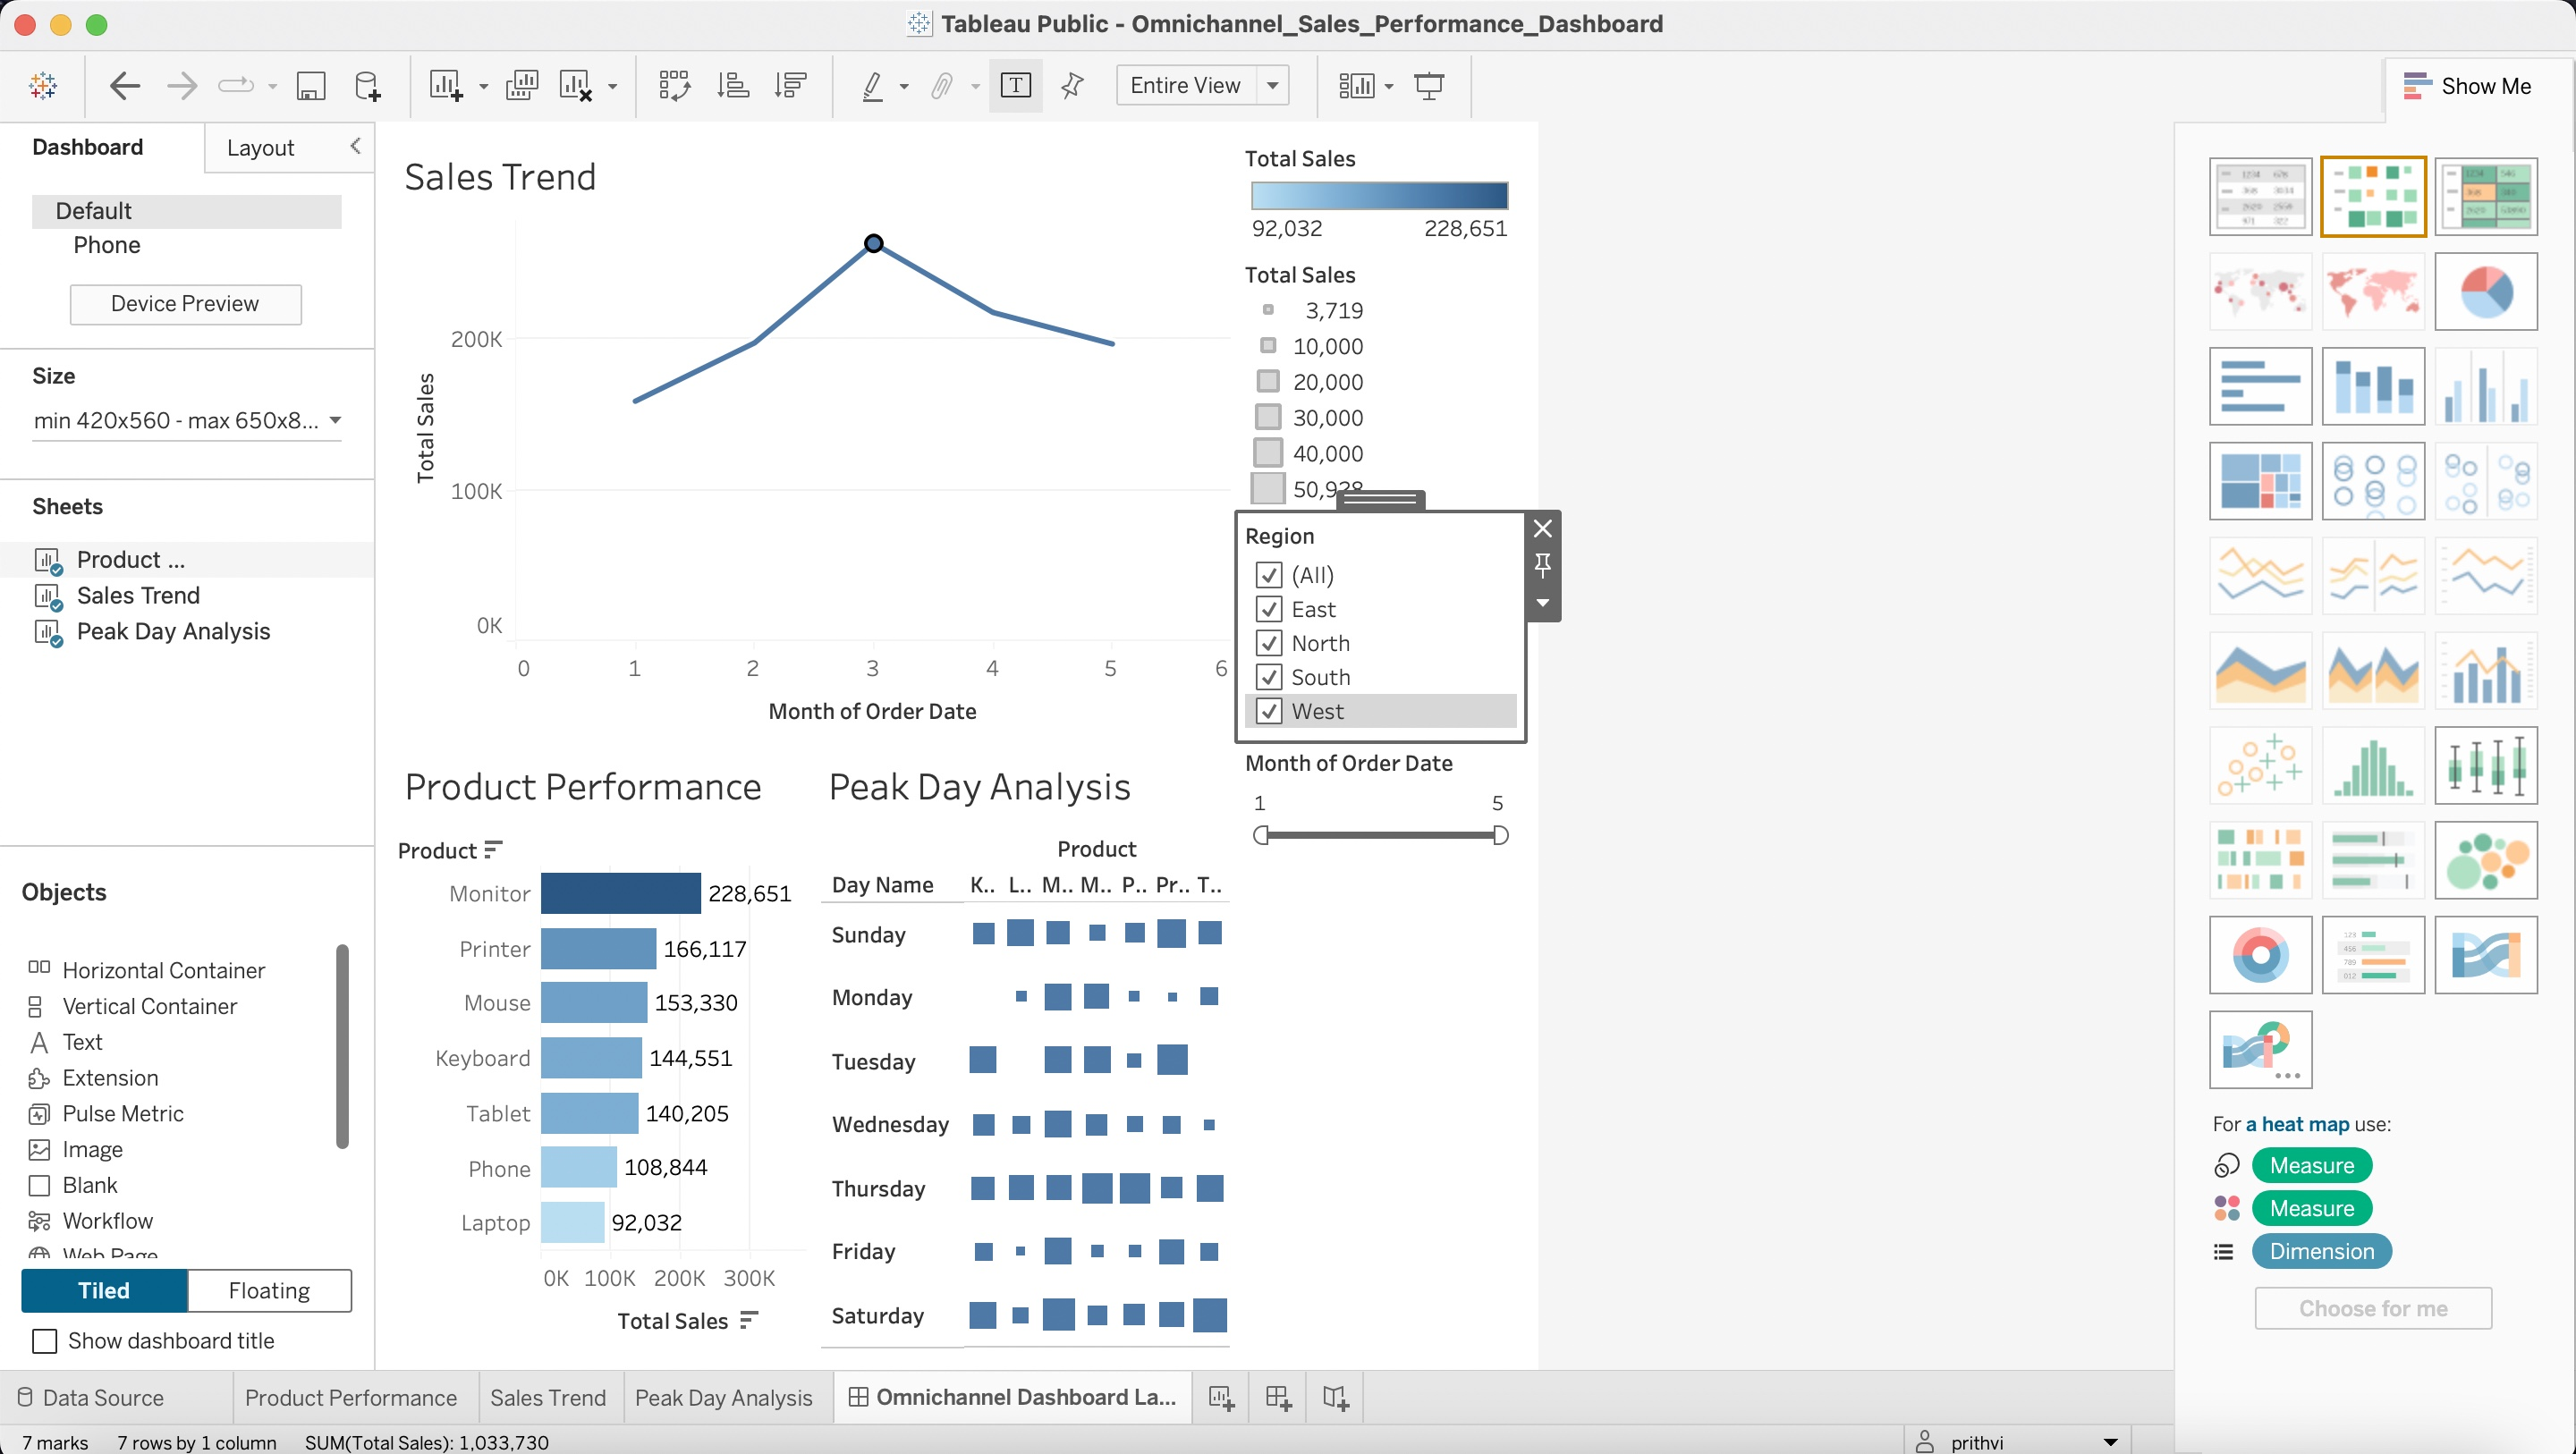

The page's visual inventory and layout, read from the dashboard file:
{"tool":"tableau","page":{"name":"Dashboard 1","canvas":[650,860],"ordinal":0},"visuals":[{"type":"worksheet","title":"Sales Trend","mark":"Automatic","rows":["Total_Sales"],"cols":["Order_Date"],"box":[8,9.9,474,420.1]},{"type":"legend","title":"Product Performance","param":"[federated.1cztxao00ijmb812vup930dtil1p].[sum:Total_Sales:qk]","box":[482,9.9,160,80.1]},{"type":"legend","title":"Peak Day Analysis","param":"[federated.1cztxao00ijmb812vup930dtil1p].[sum:Total_Sales:qk]","box":[482,89.9,160,179.9]},{"type":"filter","title":"Product Performance","param":"[federated.1cztxao00ijmb812vup930dtil1p].[none:Region:nk]","box":[482,269.8,160,156.5]},{"type":"filter","title":"Sales Trend","param":"[federated.1cztxao00ijmb812vup930dtil1p].[mn:Order_Date:qk]","box":[482,426.3,160,85]},{"type":"worksheet","title":"Product Performance","mark":"Automatic","rows":["Product"],"cols":["Total_Sales"],"box":[8,430,237,420.1]},{"type":"worksheet","title":"Peak Day Analysis","mark":"Square","rows":["Day_Name"],"cols":["Product"],"box":[245,430,237,420.1]}]}

Visuals, with their boxes on the page's 650x860 design canvas (x1, y1, x2, y2). These are canvas units, not pixel positions in the 2576x1454 screenshot, which may show the page scaled, cropped or inside an application window:
"Sales Trend" worksheet: [left=8, top=10, right=482, bottom=430]
"Product Performance" legend: [left=482, top=10, right=642, bottom=90]
"Peak Day Analysis" legend: [left=482, top=90, right=642, bottom=270]
"Product Performance" filter: [left=482, top=270, right=642, bottom=426]
"Sales Trend" filter: [left=482, top=426, right=642, bottom=511]
"Product Performance" worksheet: [left=8, top=430, right=245, bottom=850]
"Peak Day Analysis" worksheet (Square marks): [left=245, top=430, right=482, bottom=850]
